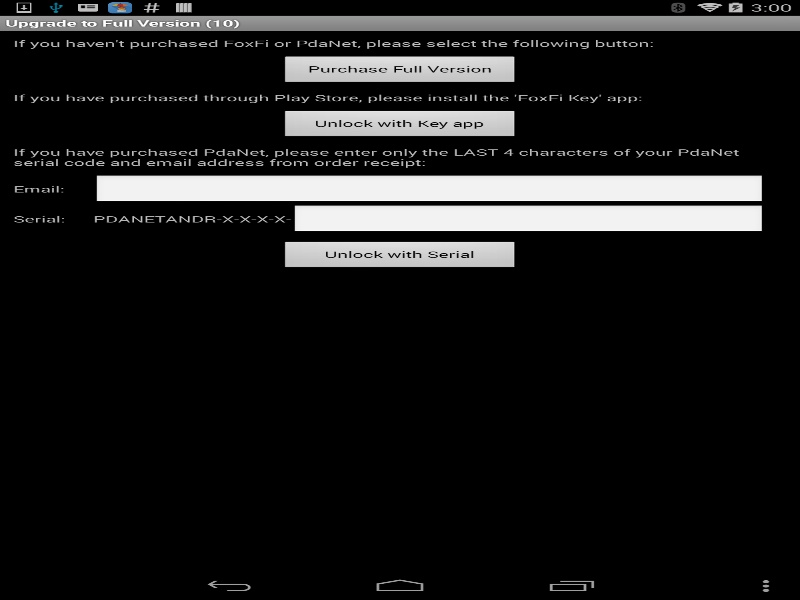Button: (280, 109, 520, 140), (280, 55, 520, 85), (280, 240, 520, 270)
Input: (93, 174, 765, 204), (291, 204, 765, 234)
